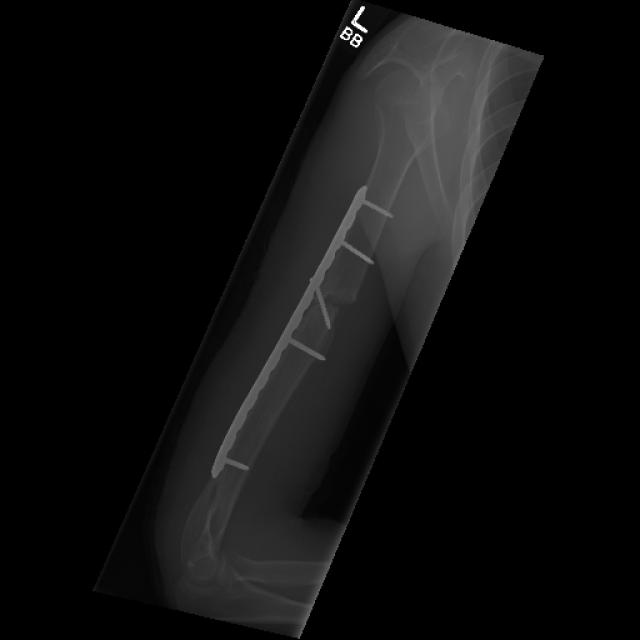humerus fracture: (300, 267, 368, 344)
